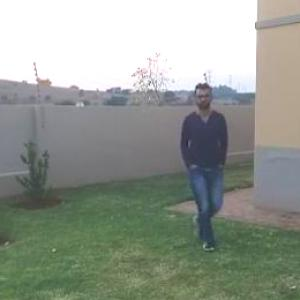follow: (179, 80, 233, 240)
